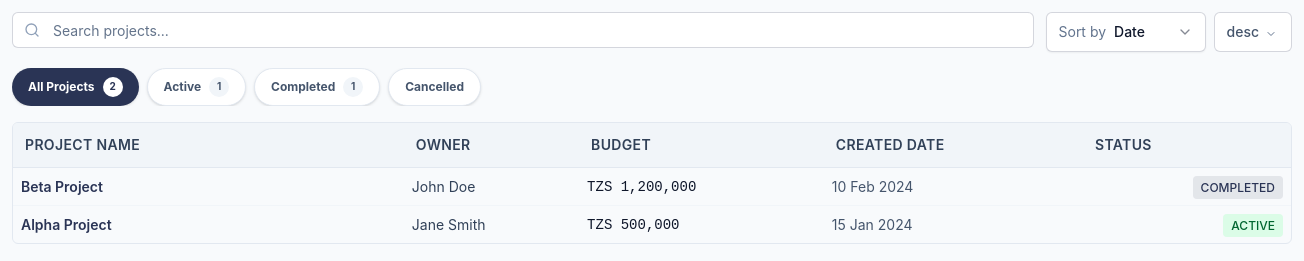
Scenario: ProjectList › toggles sort direction when the sort-order button is clicked
The width and height of the screenshot is (1304, 261).
Expected: the text "Alpha Project" is shown, [21,216,112,232]
Click the button "desc" at {"x": 1253, "y": 32}, box [1214,12,1292,52]
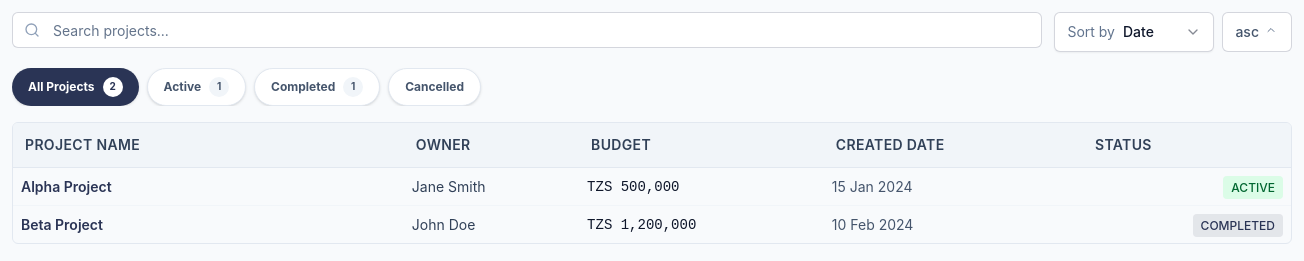
Expected: the button "desc" no longer shows "desc"
